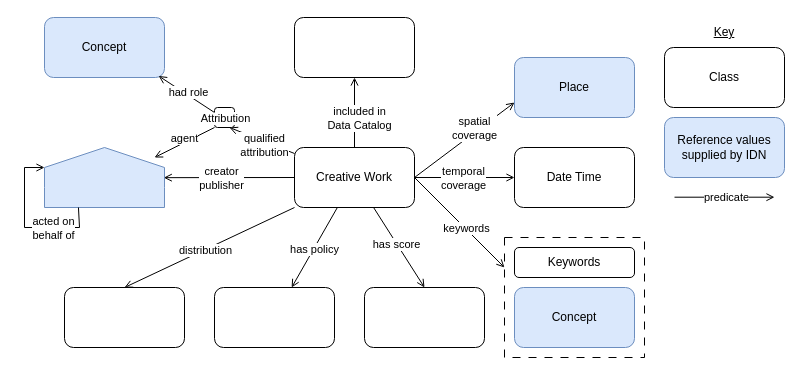
Some shapes in this 802 by 375 pixel diagram are drawn without their labels. Here are the shapes that lost their labels. From the top down, the centre of each, then its label:
At [354,47]: "Data Catalog".
At [104,167]: "People, Groups & Organisations".
At [124,317]: "DataDownload".
At [274,317]: "Policy".
At [424,317]: "Score".
